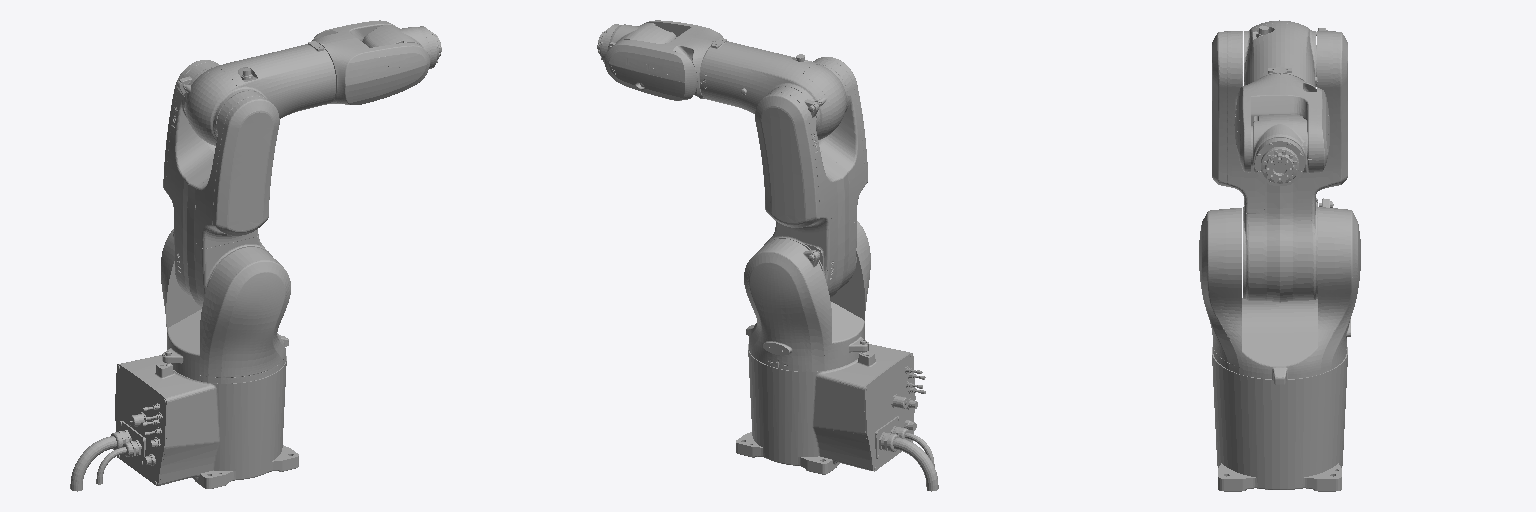
URDF robot description (kuka_kr4):
<?xml version="1.0" ?>
<!-- =================================================================================== -->
<!-- |    This document was autogenerated by xacro from kuka_kr4.xacro                 | -->
<!-- |    EDITING THIS FILE BY HAND IS NOT RECOMMENDED                                 | -->
<!-- =================================================================================== -->
<robot name="kuka_kr4">
  <material name="silver">
    <color rgba="0.700 0.700 0.700 1.000"/>
  </material>
  <transmission name="Revolucion1_tran">
    <type>transmission_interface/SimpleTransmission</type>
    <joint name="Revolucion1">
      <hardwareInterface>hardware_interface/EffortJointInterface</hardwareInterface>
    </joint>
    <actuator name="Revolucion1_actr">
      <hardwareInterface>hardware_interface/EffortJointInterface</hardwareInterface>
      <mechanicalReduction>1</mechanicalReduction>
    </actuator>
  </transmission>
  <transmission name="Revolucion2_tran">
    <type>transmission_interface/SimpleTransmission</type>
    <joint name="Revolucion2">
      <hardwareInterface>hardware_interface/EffortJointInterface</hardwareInterface>
    </joint>
    <actuator name="Revolucion2_actr">
      <hardwareInterface>hardware_interface/EffortJointInterface</hardwareInterface>
      <mechanicalReduction>1</mechanicalReduction>
    </actuator>
  </transmission>
  <transmission name="Revolucion3_tran">
    <type>transmission_interface/SimpleTransmission</type>
    <joint name="Revolucion3">
      <hardwareInterface>hardware_interface/EffortJointInterface</hardwareInterface>
    </joint>
    <actuator name="Revolucion3_actr">
      <hardwareInterface>hardware_interface/EffortJointInterface</hardwareInterface>
      <mechanicalReduction>1</mechanicalReduction>
    </actuator>
  </transmission>
  <transmission name="Revolucion4_tran">
    <type>transmission_interface/SimpleTransmission</type>
    <joint name="Revolucion4">
      <hardwareInterface>hardware_interface/EffortJointInterface</hardwareInterface>
    </joint>
    <actuator name="Revolucion4_actr">
      <hardwareInterface>hardware_interface/EffortJointInterface</hardwareInterface>
      <mechanicalReduction>1</mechanicalReduction>
    </actuator>
  </transmission>
  <transmission name="Revolucion5_tran">
    <type>transmission_interface/SimpleTransmission</type>
    <joint name="Revolucion5">
      <hardwareInterface>hardware_interface/EffortJointInterface</hardwareInterface>
    </joint>
    <actuator name="Revolucion5_actr">
      <hardwareInterface>hardware_interface/EffortJointInterface</hardwareInterface>
      <mechanicalReduction>1</mechanicalReduction>
    </actuator>
  </transmission>
  <transmission name="Revolucion6_tran">
    <type>transmission_interface/SimpleTransmission</type>
    <joint name="Revolucion6">
      <hardwareInterface>hardware_interface/EffortJointInterface</hardwareInterface>
    </joint>
    <actuator name="Revolucion6_actr">
      <hardwareInterface>hardware_interface/EffortJointInterface</hardwareInterface>
      <mechanicalReduction>1</mechanicalReduction>
    </actuator>
  </transmission>
  <gazebo>
    <plugin filename="libgazebo_ros_control.so" name="control"/>
  </gazebo>
  <gazebo reference="base_link">
    <material>Gazebo/Silver</material>
    <mu1>0.2</mu1>
    <mu2>0.2</mu2>
    <selfCollide>true</selfCollide>
    <gravity>true</gravity>
  </gazebo>
  <gazebo reference="arm_1_1">
    <material>Gazebo/Silver</material>
    <mu1>0.2</mu1>
    <mu2>0.2</mu2>
    <selfCollide>true</selfCollide>
  </gazebo>
  <gazebo reference="arm_2_1">
    <material>Gazebo/Silver</material>
    <mu1>0.2</mu1>
    <mu2>0.2</mu2>
    <selfCollide>true</selfCollide>
  </gazebo>
  <gazebo reference="arm_3_1">
    <material>Gazebo/Silver</material>
    <mu1>0.2</mu1>
    <mu2>0.2</mu2>
    <selfCollide>true</selfCollide>
  </gazebo>
  <gazebo reference="arm_4_1">
    <material>Gazebo/Silver</material>
    <mu1>0.2</mu1>
    <mu2>0.2</mu2>
    <selfCollide>true</selfCollide>
  </gazebo>
  <gazebo reference="arm_5_1">
    <material>Gazebo/Silver</material>
    <mu1>0.2</mu1>
    <mu2>0.2</mu2>
    <selfCollide>true</selfCollide>
  </gazebo>
  <gazebo reference="efector_final_1">
    <material>Gazebo/Silver</material>
    <mu1>0.2</mu1>
    <mu2>0.2</mu2>
    <selfCollide>true</selfCollide>
  </gazebo>
  <link name="base_link">
    <inertial>
      <origin rpy="0 0 0" xyz="-0.03685052519874798 0.0002444650496217044 0.09028031393493556"/>
      <mass value="52.09763807147974"/>
      <inertia ixx="0.237109" ixy="0.002106" ixz="0.003044" iyy="0.389106" iyz="0.000599" izz="0.374461"/>
    </inertial>
    <visual>
      <origin rpy="0 0 0" xyz="0 0 0"/>
      <geometry>
        <mesh filename="package://kuka_kr4_description/meshes/base_link.stl" scale="0.001 0.001 0.001"/>
      </geometry>
      <material name="silver"/>
    </visual>
    <collision>
      <origin rpy="0 0 0" xyz="0 0 0"/>
      <geometry>
        <mesh filename="package://kuka_kr4_description/meshes/base_link.stl" scale="0.001 0.001 0.001"/>
      </geometry>
    </collision>
  </link>
  <link name="arm_1_1">
    <inertial>
      <origin rpy="0 0 0" xyz="-0.003988136239754784 -0.0007020266635606675 0.08231492151934183"/>
      <mass value="27.389571489728127"/>
      <inertia ixx="0.228578" ixy="0.000127" ixz="-0.000588" iyy="0.147549" iyz="0.001416" izz="0.163411"/>
    </inertial>
    <visual>
      <origin rpy="0 0 0" xyz="0.0 0.0 -0.177"/>
      <geometry>
        <mesh filename="package://kuka_kr4_description/meshes/arm_1_1.stl" scale="0.001 0.001 0.001"/>
      </geometry>
      <material name="silver"/>
    </visual>
    <collision>
      <origin rpy="0 0 0" xyz="0.0 0.0 -0.177"/>
      <geometry>
        <mesh filename="package://kuka_kr4_description/meshes/arm_1_1.stl" scale="0.001 0.001 0.001"/>
      </geometry>
    </collision>
  </link>
  <link name="arm_2_1">
    <inertial>
      <origin rpy="0 0 0" xyz="-0.010662422573048202 -0.06312208973151316 0.11773443401249284"/>
      <mass value="37.16046001565583"/>
      <inertia ixx="0.491976" ixy="-2.1e-05" ixz="0.007959" iyy="0.430396" iyz="0.004479" izz="0.134175"/>
    </inertial>
    <visual>
      <origin rpy="0 0 0" xyz="0.0 -0.064 -0.3292"/>
      <geometry>
        <mesh filename="package://kuka_kr4_description/meshes/arm_2_1.stl" scale="0.001 0.001 0.001"/>
      </geometry>
      <material name="silver"/>
    </visual>
    <collision>
      <origin rpy="0 0 0" xyz="0.0 -0.064 -0.3292"/>
      <geometry>
        <mesh filename="package://kuka_kr4_description/meshes/arm_2_1.stl" scale="0.001 0.001 0.001"/>
      </geometry>
    </collision>
  </link>
  <link name="arm_3_1">
    <inertial>
      <origin rpy="0 0 0" xyz="0.05016463351790332 -0.06115462726961939 0.009515195828368905"/>
      <mass value="16.81095567354773"/>
      <inertia ixx="0.027845" ixy="0.000717" ixz="-0.008555" iyy="0.081909" iyz="0.000107" izz="0.078872"/>
    </inertial>
    <visual>
      <origin rpy="0 0 0" xyz="0.0 -0.062 -0.6192"/>
      <geometry>
        <mesh filename="package://kuka_kr4_description/meshes/arm_3_1.stl" scale="0.001 0.001 0.001"/>
      </geometry>
      <material name="silver"/>
    </visual>
    <collision>
      <origin rpy="0 0 0" xyz="0.0 -0.062 -0.6192"/>
      <geometry>
        <mesh filename="package://kuka_kr4_description/meshes/arm_3_1.stl" scale="0.001 0.001 0.001"/>
      </geometry>
    </collision>
  </link>
  <link name="arm_4_1">
    <inertial>
      <origin rpy="0 0 0" xyz="0.07072783604162342 0.002541906720189751 0.0014460342528421766"/>
      <mass value="8.604519243549056"/>
      <inertia ixx="0.018169" ixy="-0.002064" ixz="0.000211" iyy="0.020163" iyz="-0.000351" izz="0.028764"/>
    </inertial>
    <visual>
      <origin rpy="0 0 0" xyz="-0.1632 0.0 -0.6392"/>
      <geometry>
        <mesh filename="package://kuka_kr4_description/meshes/arm_4_1.stl" scale="0.001 0.001 0.001"/>
      </geometry>
      <material name="silver"/>
    </visual>
    <collision>
      <origin rpy="0 0 0" xyz="-0.1632 0.0 -0.6392"/>
      <geometry>
        <mesh filename="package://kuka_kr4_description/meshes/arm_4_1.stl" scale="0.001 0.001 0.001"/>
      </geometry>
    </collision>
  </link>
  <link name="arm_5_1">
    <inertial>
      <origin rpy="0 0 0" xyz="0.0031397968802750476 -0.04852169254529081 -1.247668779158495e-05"/>
      <mass value="4.272813571114689"/>
      <inertia ixx="0.003752" ixy="-4.2e-05" ixz="-1e-05" iyy="0.005073" iyz="1e-06" izz="0.005384"/>
    </inertial>
    <visual>
      <origin rpy="0 0 0" xyz="-0.31 -0.049 -0.6392"/>
      <geometry>
        <mesh filename="package://kuka_kr4_description/meshes/arm_5_1.stl" scale="0.001 0.001 0.001"/>
      </geometry>
      <material name="silver"/>
    </visual>
    <collision>
      <origin rpy="0 0 0" xyz="-0.31 -0.049 -0.6392"/>
      <geometry>
        <mesh filename="package://kuka_kr4_description/meshes/arm_5_1.stl" scale="0.001 0.001 0.001"/>
      </geometry>
    </collision>
  </link>
  <link name="efector_final_1">
    <inertial>
      <origin rpy="0 0 0" xyz="0.014533865884605035 -2.541966860416472e-06 -2.4161364704511357e-06"/>
      <mass value="0.26603789816689666"/>
      <inertia ixx="7.4e-05" ixy="0.0" ixz="0.0" iyy="4.8e-05" iyz="-0.0" izz="4.8e-05"/>
    </inertial>
    <visual>
      <origin rpy="0 0 0" xyz="-0.358 0.0 -0.6392"/>
      <geometry>
        <mesh filename="package://kuka_kr4_description/meshes/efector_final_1.stl" scale="0.001 0.001 0.001"/>
      </geometry>
      <material name="silver"/>
    </visual>
    <collision>
      <origin rpy="0 0 0" xyz="-0.358 0.0 -0.6392"/>
      <geometry>
        <mesh filename="package://kuka_kr4_description/meshes/efector_final_1.stl" scale="0.001 0.001 0.001"/>
      </geometry>
    </collision>
  </link>
  <joint name="Revolucion1" type="continuous">
    <origin rpy="0 0 0" xyz="0.0 0.0 0.177"/>
    <parent link="base_link"/>
    <child link="arm_1_1"/>
    <axis xyz="0.0 -0.0 1.0"/>
  </joint>
  <joint name="Revolucion2" type="continuous">
    <origin rpy="0 0 0" xyz="0.0 0.064 0.1522"/>
    <parent link="arm_1_1"/>
    <child link="arm_2_1"/>
    <axis xyz="-0.0 1.0 0.0"/>
  </joint>
  <joint name="Revolucion3" type="continuous">
    <origin rpy="0 0 0" xyz="0.0 -0.002 0.29"/>
    <parent link="arm_2_1"/>
    <child link="arm_3_1"/>
    <axis xyz="0.0 1.0 0.0"/>
  </joint>
  <joint name="Revolucion4" type="continuous">
    <origin rpy="0 0 0" xyz="0.1632 -0.062 0.02"/>
    <parent link="arm_3_1"/>
    <child link="arm_4_1"/>
    <axis xyz="-1.0 0.0 -0.0"/>
  </joint>
  <joint name="Revolucion5" type="continuous">
    <origin rpy="0 0 0" xyz="0.1468 0.049 0.0"/>
    <parent link="arm_4_1"/>
    <child link="arm_5_1"/>
    <axis xyz="0.0 1.0 0.0"/>
  </joint>
  <joint name="Revolucion6" type="continuous">
    <origin rpy="0 0 0" xyz="0.048 -0.049 0.0"/>
    <parent link="arm_5_1"/>
    <child link="efector_final_1"/>
    <axis xyz="-1.0 0.0 -0.0"/>
  </joint>

  
</robot>

--- What the picture shows (computed from the rendered views, not written in the file) ---
Views: 3 orthographic renders of the robot side by side, from view 1: azimuth 30°, elevation 25°; view 2: azimuth 150°, elevation 25°; view 3: azimuth 270°, elevation 25°.
Robot: kuka_kr4 — 7 links, 6 joints (6 continuous); root link base_link; default pose: all joints at 0.
Links seen in each view (by area): view 1: base_link, arm_2_1, arm_1_1, arm_3_1, arm_4_1, arm_5_1; view 2: base_link, arm_2_1, arm_1_1, arm_3_1, arm_4_1, arm_5_1; view 3: arm_1_1, arm_2_1, base_link, arm_4_1, arm_3_1, arm_5_1, efector_final_1.
Boxes of the visible links, left/top/right/bottom form: base_link: left=70, top=355, right=298, bottom=491; arm_2_1: left=163, top=60, right=279, bottom=306; arm_1_1: left=161, top=229, right=290, bottom=383; arm_3_1: left=184, top=41, right=335, bottom=145; arm_4_1: left=312, top=20, right=429, bottom=104; arm_5_1: left=362, top=25, right=437, bottom=68; base_link: left=736, top=344, right=938, bottom=491; arm_2_1: left=755, top=57, right=867, bottom=297; arm_1_1: left=744, top=221, right=870, bottom=371; arm_3_1: left=700, top=38, right=847, bottom=139; arm_4_1: left=605, top=20, right=723, bottom=100; arm_5_1: left=601, top=23, right=676, bottom=63; arm_1_1: left=1199, top=198, right=1360, bottom=384; arm_2_1: left=1212, top=28, right=1347, bottom=302; base_link: left=1212, top=347, right=1347, bottom=491; arm_4_1: left=1234, top=73, right=1329, bottom=173; arm_3_1: left=1244, top=20, right=1317, bottom=86; arm_5_1: left=1251, top=114, right=1307, bottom=185; efector_final_1: left=1261, top=147, right=1298, bottom=183.
Size in the robot's own frame: 0.653 by 0.228 by 0.6973 metres.
Meshes: 7 distinct files referenced, 7 mesh visuals loaded (7 binary STL).